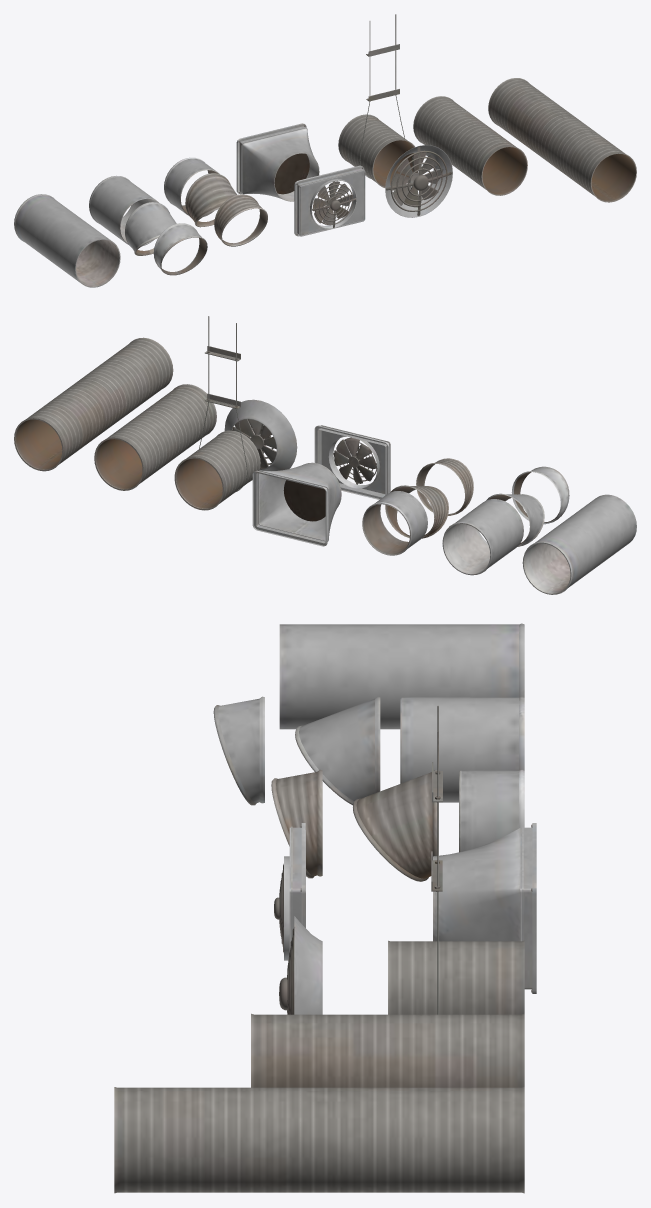
The model's file is modular_airduct_circular_01.glb.
3 views of the same model, one above another, from view 1: azimuth 30°, elevation 25°; view 2: azimuth 150°, elevation 25°; view 3: azimuth 270°, elevation 25° (orthographic). The views are drawn at different scales.
Visible parts, largest first — view 1: modular_airduct_circular_triple, modular_airduct_circular_double, modular_airduct_circular_smooth_triple, modular_airduct_rectangular_converter, modular_airduct_rectangular_vent_fan, modular_airduct_circular_fan, modular_airduct_circular_single, modular_airduct_circular_smooth_double, modular_airduct_circular_bend_half, modular_airduct_circular_smooth_bend_half, modular_airduct_circular_bend_quater, modular_airduct_circular_smooth_bend_quater (+1 smaller); view 2: modular_airduct_circular_triple, modular_airduct_circular_double, modular_airduct_circular_smooth_triple, modular_airduct_rectangular_converter, modular_airduct_circular_single, modular_airduct_circular_smooth_double, modular_airduct_rectangular_vent_fan, modular_airduct_circular_fan, modular_airduct_circular_smooth_single, modular_airduct_circular_bend_half, modular_airduct_circular_bend_quater, modular_airduct_circular_smooth_bend_quater (+2 smaller); view 3: modular_airduct_circular_triple, modular_airduct_circular_smooth_triple, modular_airduct_circular_double, modular_airduct_rectangular_converter, modular_airduct_circular_single, modular_airduct_circular_smooth_double, modular_airduct_circular_smooth_bend_half, modular_airduct_circular_bend_half, modular_airduct_circular_smooth_single, modular_airduct_circular_smooth_bend_quater, modular_airduct_circular_bend_quater, modular_airduct_circular_fan (+1 smaller).
Part boxes in pixels (<box>): modular_airduct_circular_triple: <box>488,78,636,202</box>; modular_airduct_circular_double: <box>413,96,527,195</box>; modular_airduct_circular_smooth_triple: <box>14,194,120,287</box>; modular_airduct_rectangular_converter: <box>236,123,319,201</box>; modular_airduct_rectangular_vent_fan: <box>294,165,365,236</box>; modular_airduct_circular_fan: <box>385,145,452,217</box>; modular_airduct_circular_single: <box>338,114,414,187</box>; modular_airduct_circular_smooth_double: <box>89,175,158,246</box>; modular_airduct_circular_bend_half: <box>185,173,236,227</box>; modular_airduct_circular_smooth_bend_half: <box>125,202,176,255</box>; modular_airduct_circular_bend_quater: <box>214,194,267,246</box>; modular_airduct_circular_smooth_bend_quater: <box>153,223,207,275</box>; modular_airduct_circular_triple: <box>14,337,173,471</box>; modular_airduct_circular_double: <box>94,384,216,490</box>; modular_airduct_circular_smooth_triple: <box>522,494,636,594</box>; modular_airduct_rectangular_converter: <box>252,462,341,546</box>; modular_airduct_circular_single: <box>174,430,260,510</box>; modular_airduct_circular_smooth_double: <box>442,499,523,575</box>; modular_airduct_rectangular_vent_fan: <box>314,425,390,499</box>; modular_airduct_circular_fan: <box>224,399,297,470</box>; modular_airduct_circular_smooth_single: <box>362,491,427,555</box>; modular_airduct_circular_bend_half: <box>385,485,448,538</box>; modular_airduct_circular_bend_quater: <box>416,458,473,515</box>; modular_airduct_circular_smooth_bend_quater: <box>511,466,569,524</box>; modular_airduct_circular_triple: <box>114,1087,524,1193</box>; modular_airduct_circular_smooth_triple: <box>279,623,524,729</box>; modular_airduct_circular_double: <box>251,1013,524,1087</box>; modular_airduct_rectangular_converter: <box>433,823,536,993</box>; modular_airduct_circular_single: <box>388,940,524,1014</box>; modular_airduct_circular_smooth_double: <box>400,696,524,802</box>; modular_airduct_circular_smooth_bend_half: <box>295,696,380,805</box>; modular_airduct_circular_bend_half: <box>353,769,437,881</box>; modular_airduct_circular_smooth_single: <box>459,770,524,852</box>; modular_airduct_circular_smooth_bend_quater: <box>213,696,264,805</box>; modular_airduct_circular_bend_quater: <box>271,769,322,878</box>; modular_airduct_circular_fan: <box>279,916,322,1014</box>.
Size of the model in its own units: 4.17 by 1.32 by 1.46.
2 materials, 2 textured.
